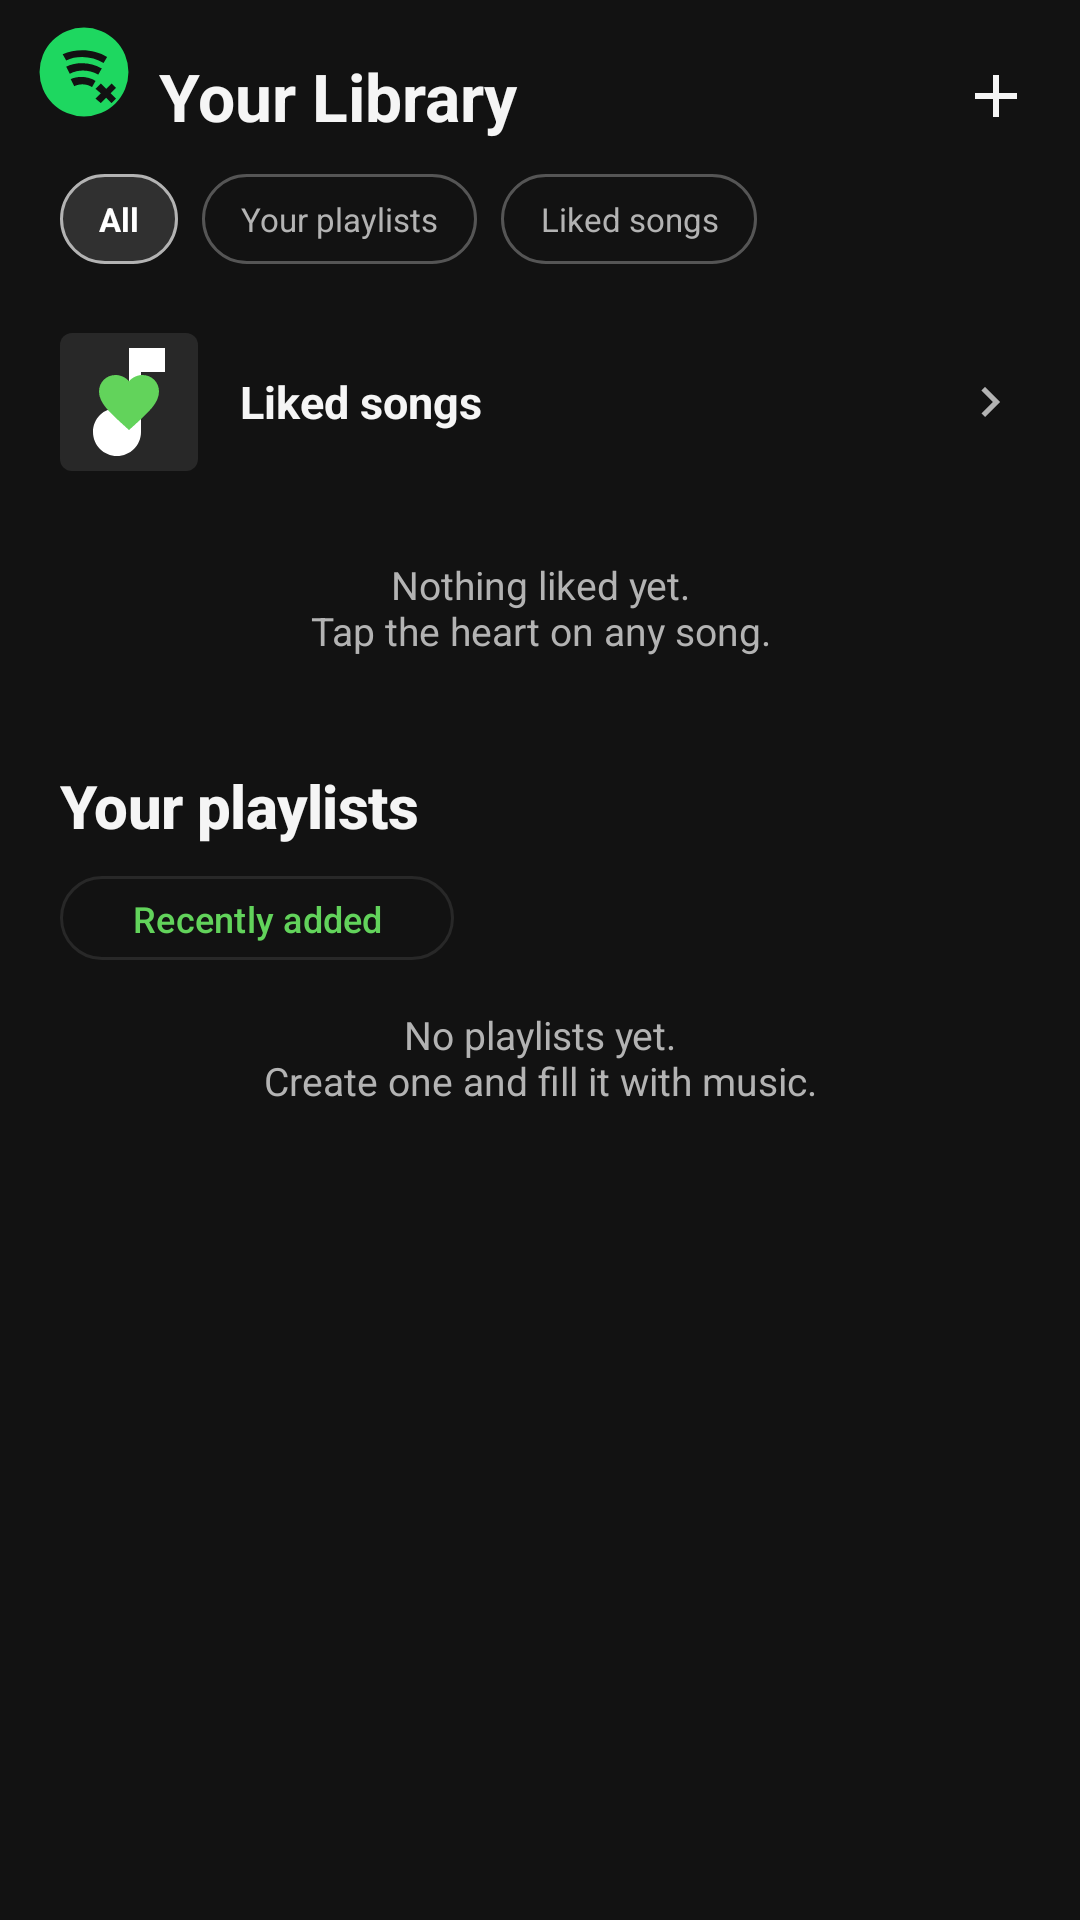

Icon click points for this 1080×1920 phone screenshot, format point (x, y):
Create playlist or import: point (996, 96)
